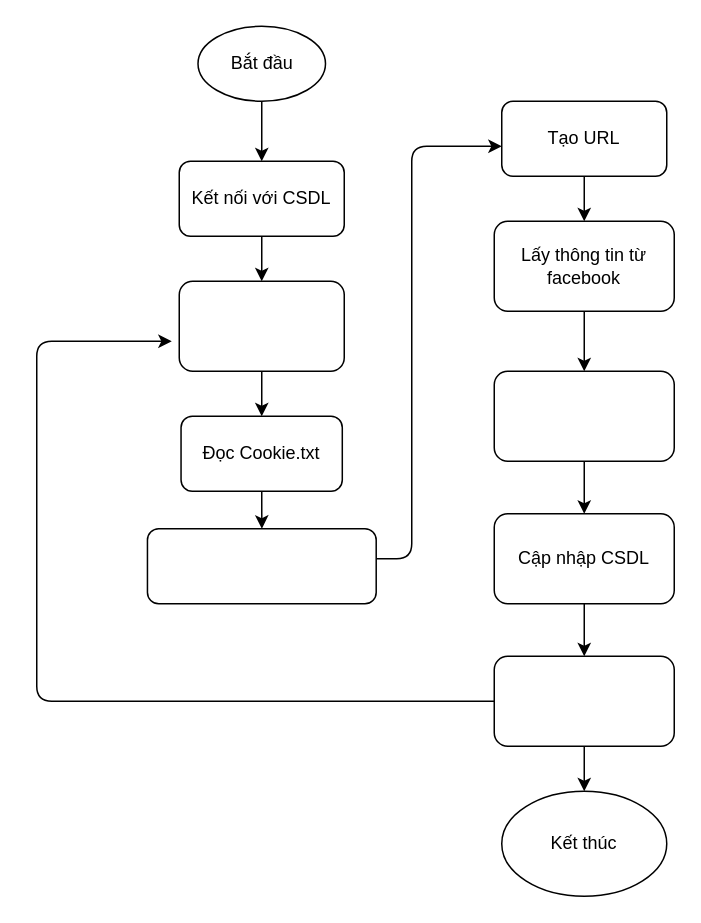
Some shapes in this 701 by 923 pixel diagram are drawn without their labels. The shapes that lost their labels are listed below. From the top down, each one's box as (x1, y1, x2, y2) in pixels, then its label:
(178, 280, 344, 371): Lấy dữ liệu từ 2 bảng posts và posts_items
(493, 370, 674, 461): Kiểm tra hình ảnh có tồn tại hay không
(146, 527, 376, 604): Duyệt qua từng post_id và id hình ảnh
(493, 655, 674, 746): Kiểm tra điều kiện: Lặp lại hoặc kết thúc
